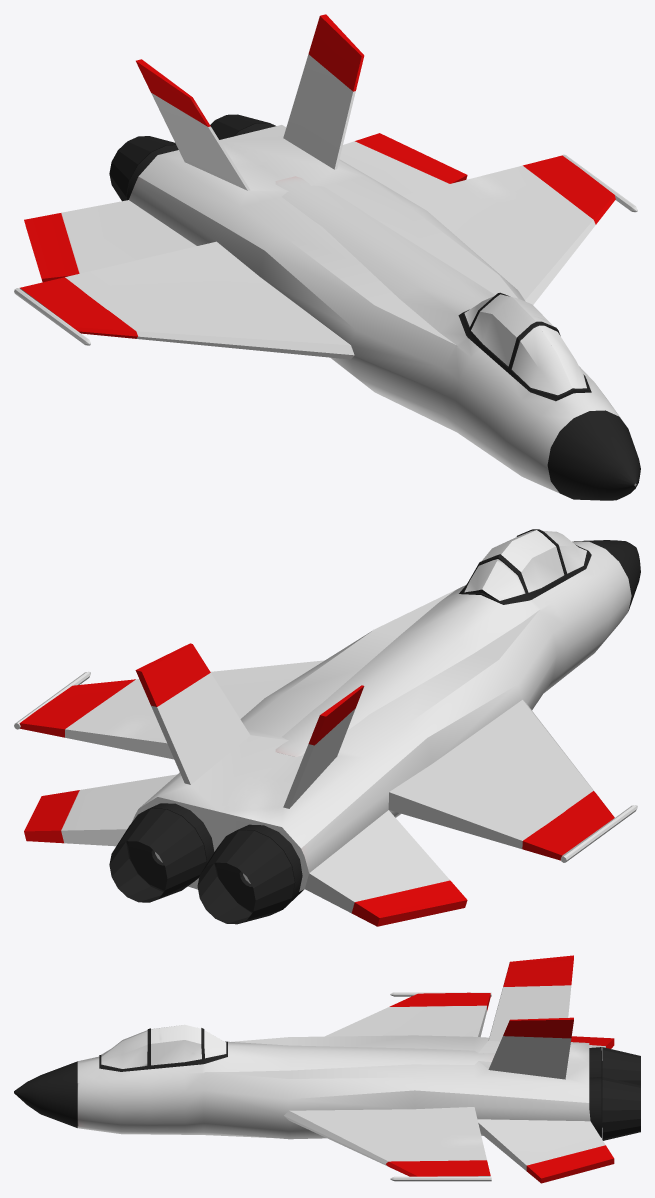
Rendered from Fighter1.fbx.
3 renders of one model, top to bottom at view 1: azimuth 30°, elevation 25°; view 2: azimuth 150°, elevation 25°; view 3: azimuth 270°, elevation 25°, orthographic. The views are drawn at different scales.
Visible parts, largest first — view 1: fighter1.001; view 2: fighter1.001; view 3: fighter1.001.
Part boxes in pixels (x1,y1,x2,y2): fighter1.001: [14, 14, 640, 500]; fighter1.001: [14, 529, 640, 926]; fighter1.001: [14, 955, 640, 1183].
Bounding box in the file's own units: 2.07 × 0.7393 × 2.94.
1 material, 1 textured.
